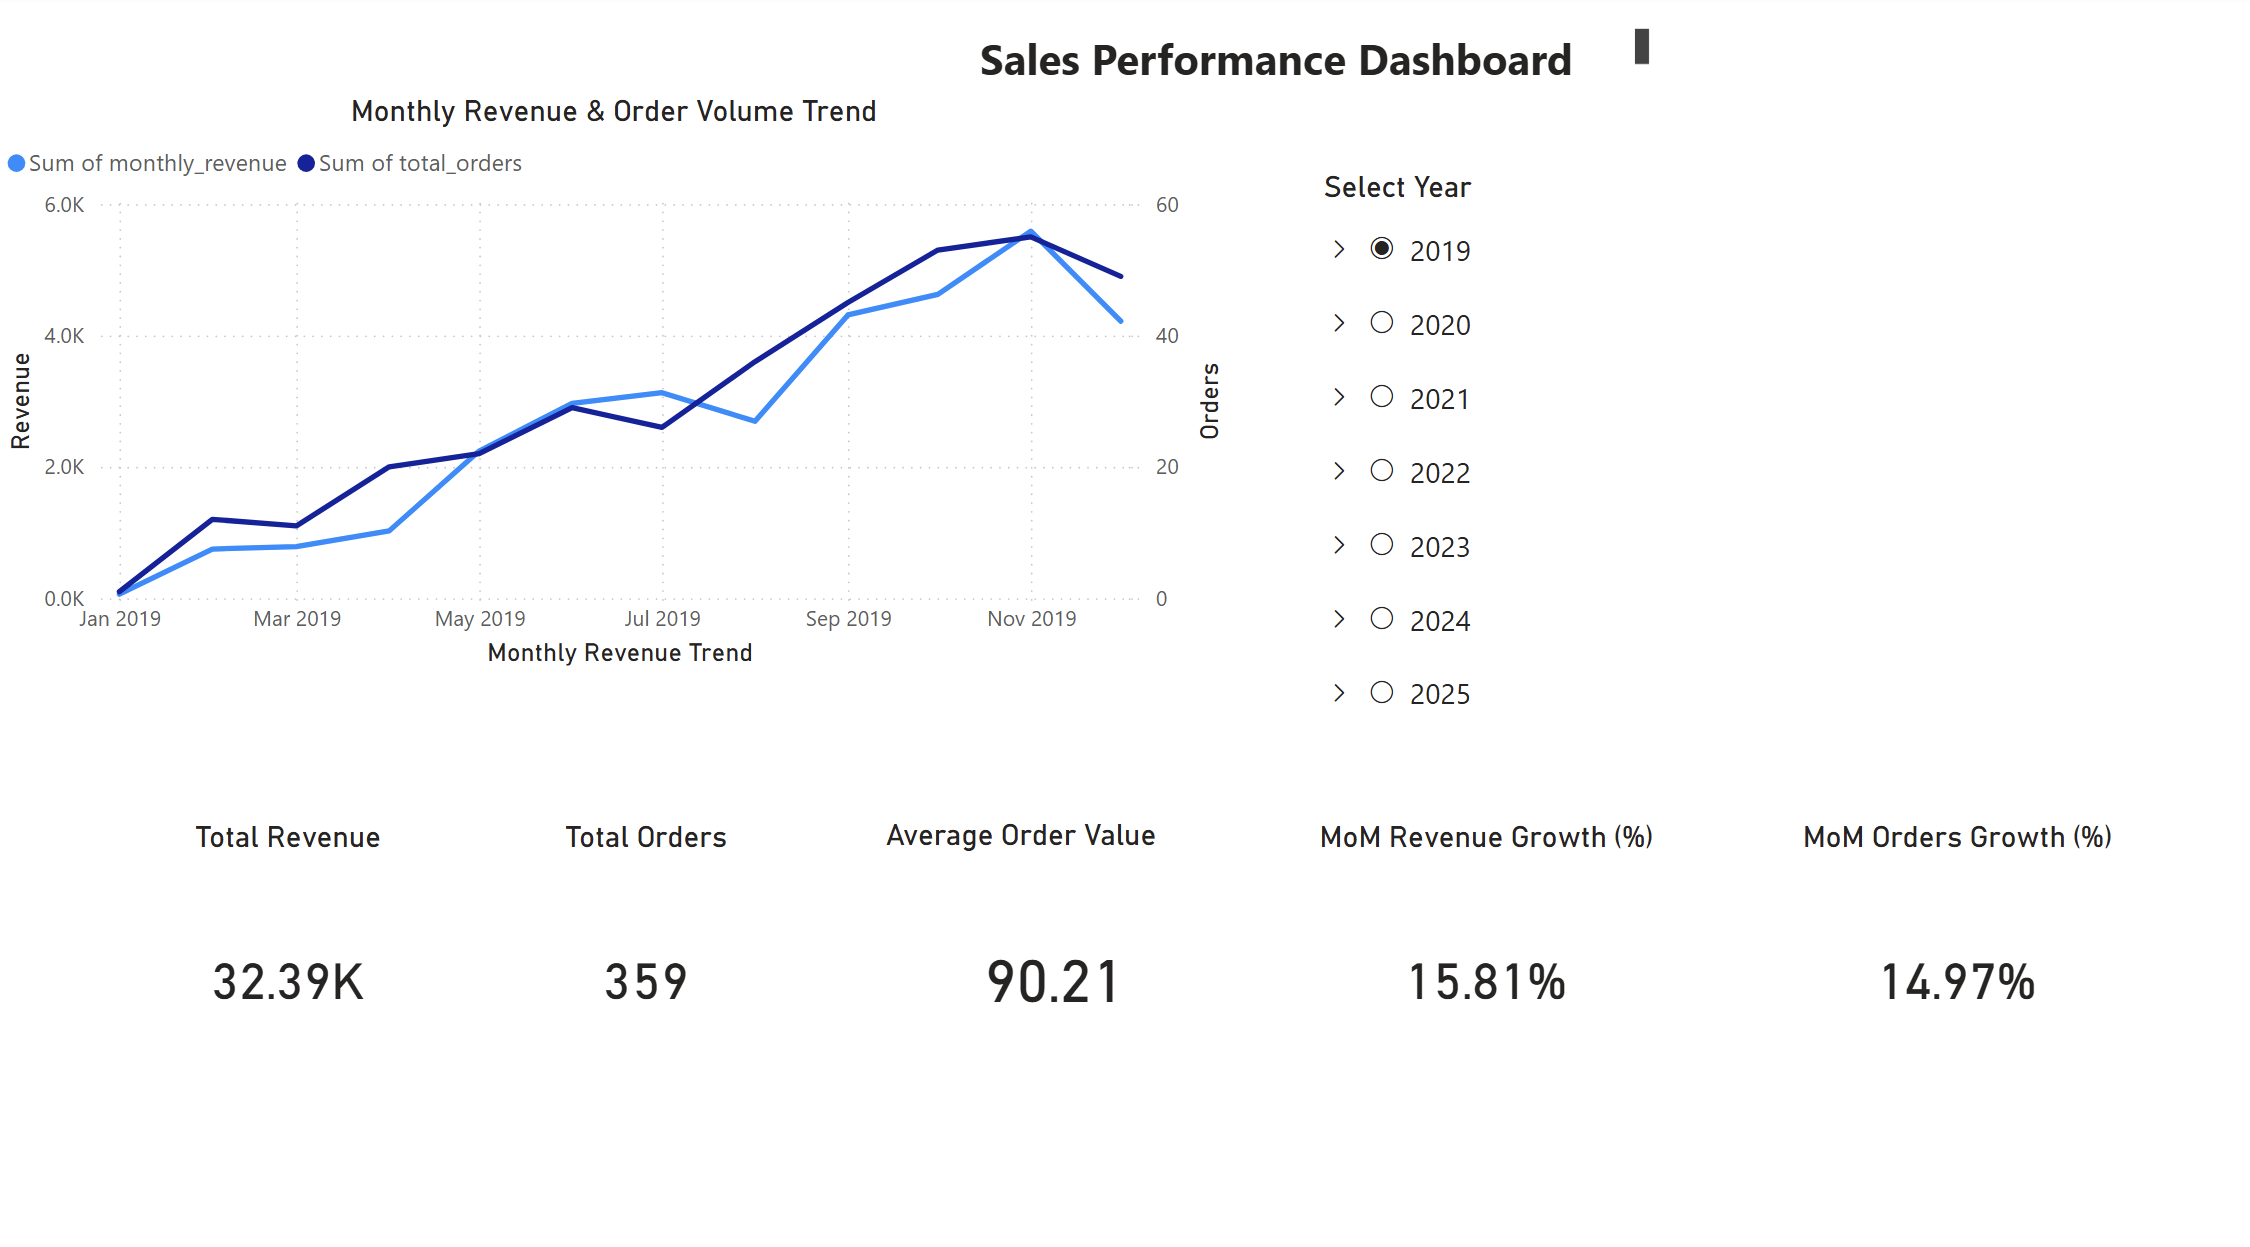

Layout of this report page (visuals, bound fields, positions):
{"tool":"powerbi","page":{"name":"Page 1","canvas":[1280,720],"ordinal":0},"visuals":[{"type":"lineChart","title":"Monthly Revenue & Order Volume Trend ","fields":{"Category":["Sheet 1.order_month"],"Y":["Sum(Sheet 1.monthly_revenue)"],"Y2":["Sum(Sheet 1.total_orders)"]},"box":[0,57.6,700.6,329.6],"z":0},{"type":"card","title":"Total Revenue","fields":{"Values":["Sum(Sheet 1.monthly_revenue)"]},"box":[64.7,470.2,201,160.1],"z":1000},{"type":"card","title":"Total Orders","fields":{"Values":["Sum(Sheet 1.total_orders)"]},"box":[265.7,470.2,205.6,160.1],"z":2000},{"type":"card","title":"Average Order Value","fields":{"Values":["Sheet 1.Average Order Value"]},"box":[499.6,468.5,201,161.1],"z":3000},{"type":"card","title":"MoM Orders Growth (%)","fields":{"Values":["Sheet 1.MoM Revenue Growth %"]},"box":[1010.7,470.2,204.4,160.1],"z":4000},{"type":"card","title":"MoM Revenue Growth (%)","fields":{"Values":["Sheet 1.MoM Orders Growth %"]},"box":[724.5,470.2,241.9,160.1],"z":5000},{"type":"listSlicer","title":"Select Year","fields":{"Values":["Sheet 1.order_month.Variation.Date Hierarchy.Year","Sheet 1.order_month.Variation.Date Hierarchy.Quarter","Sheet 1.order_month.Variation.Date Hierarchy.Month","Sheet 1.order_month.Variation.Date Hierarchy.Day"]},"box":[747.9,100.5,437.5,368],"z":6000},{"type":"textbox","box":[552.8,16.3,390.2,41.4],"z":7000}]}

Visuals, with their boxes in screenshot pixels (x1, y1, x2, y2), scaled from the page's 1280x720 canvas onto the 2250x1247 screenshot:
"Monthly Revenue & Order Volume Trend " lineChart: box=[0, 100, 1232, 671]
"Total Revenue" card: box=[114, 814, 467, 1092]
"Total Orders" card: box=[467, 814, 828, 1092]
"Average Order Value" card: box=[878, 811, 1232, 1090]
"MoM Orders Growth (%)" card: box=[1777, 814, 2136, 1092]
"MoM Revenue Growth (%)" card: box=[1274, 814, 1699, 1092]
"Select Year" listSlicer: box=[1315, 174, 2084, 811]
textbox: box=[972, 28, 1658, 100]
